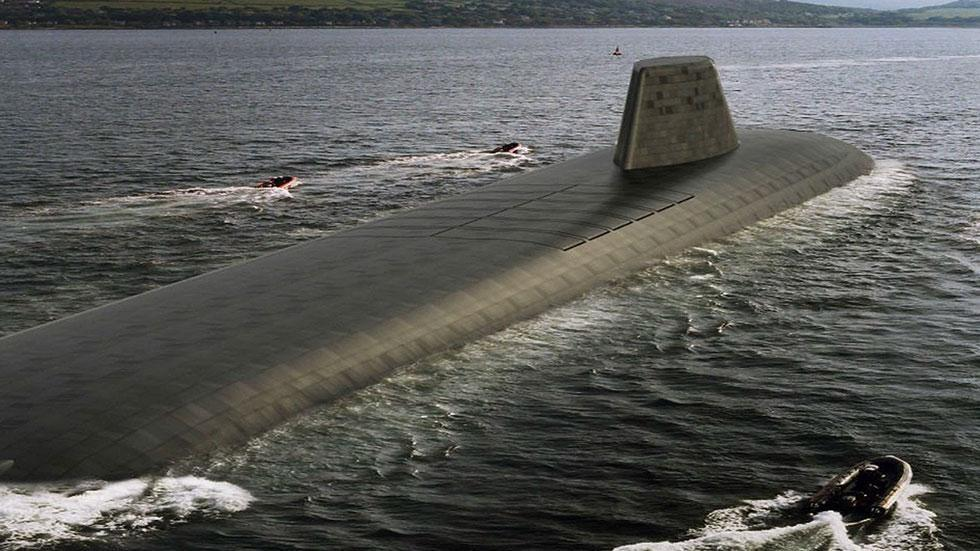Submarine: (7, 21, 809, 551)
